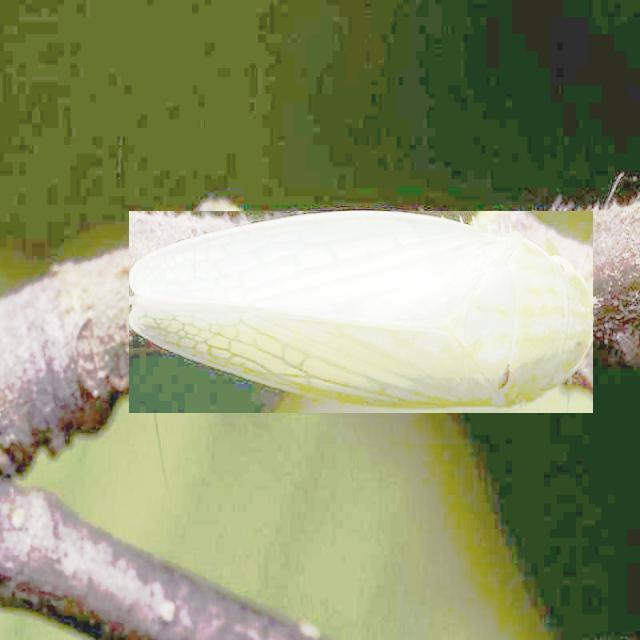green-leafhopper: (129, 211, 593, 413)
